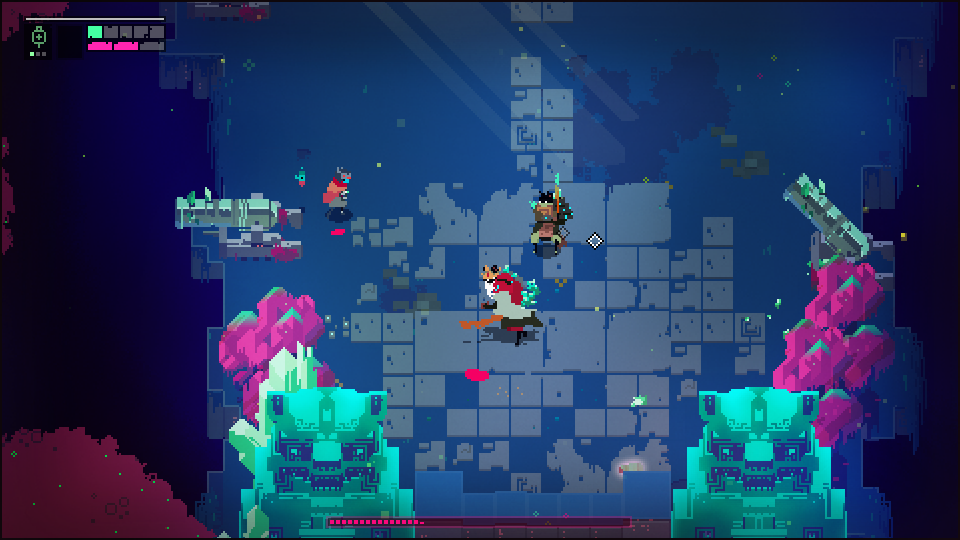hanged_man: (459, 262, 542, 349)
player: (322, 163, 358, 227)
